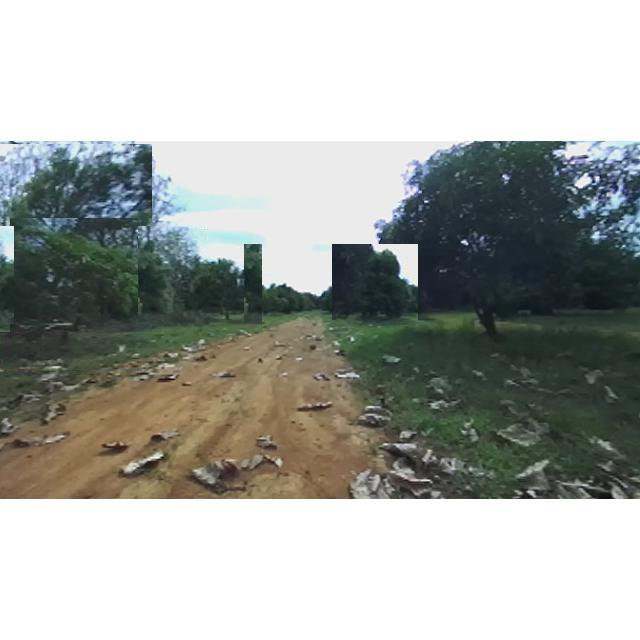direk: (383, 142, 605, 346), (0, 144, 152, 332), (0, 218, 142, 370), (332, 244, 418, 326), (138, 226, 208, 324), (190, 244, 262, 332)
